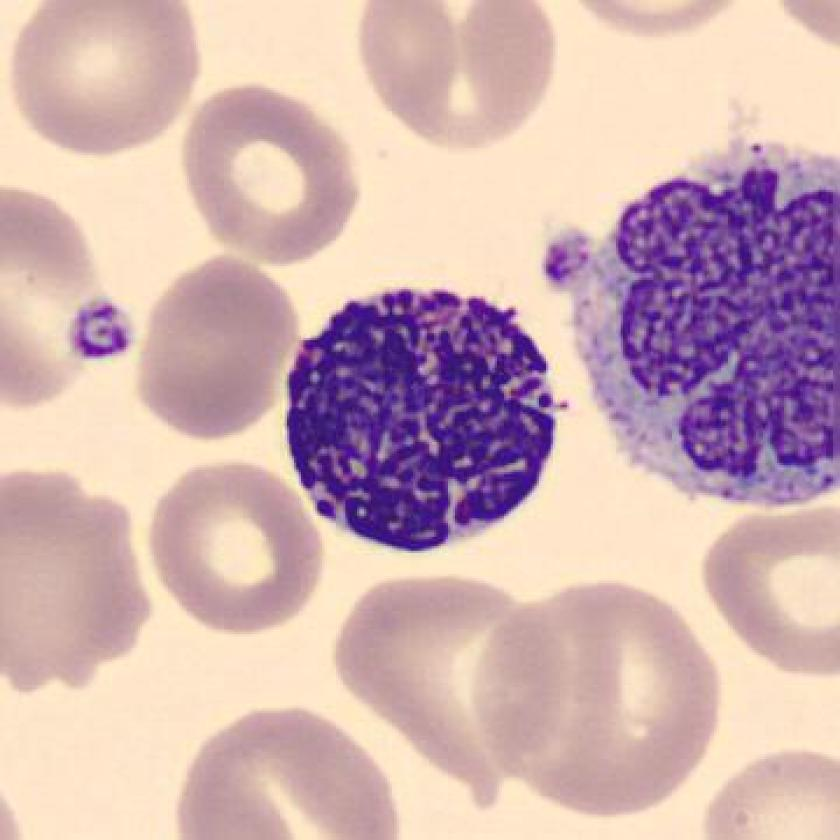basophil: (582, 136, 840, 520), (276, 279, 573, 584)
